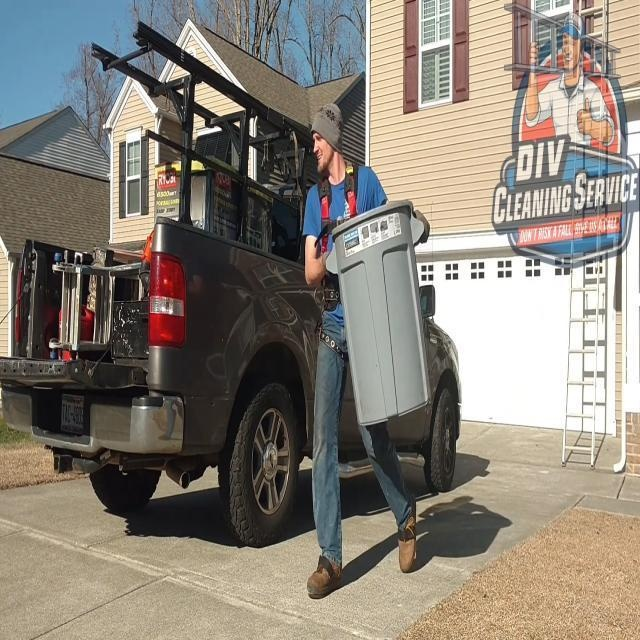Arnes_seguridad: (312, 159, 360, 358)
